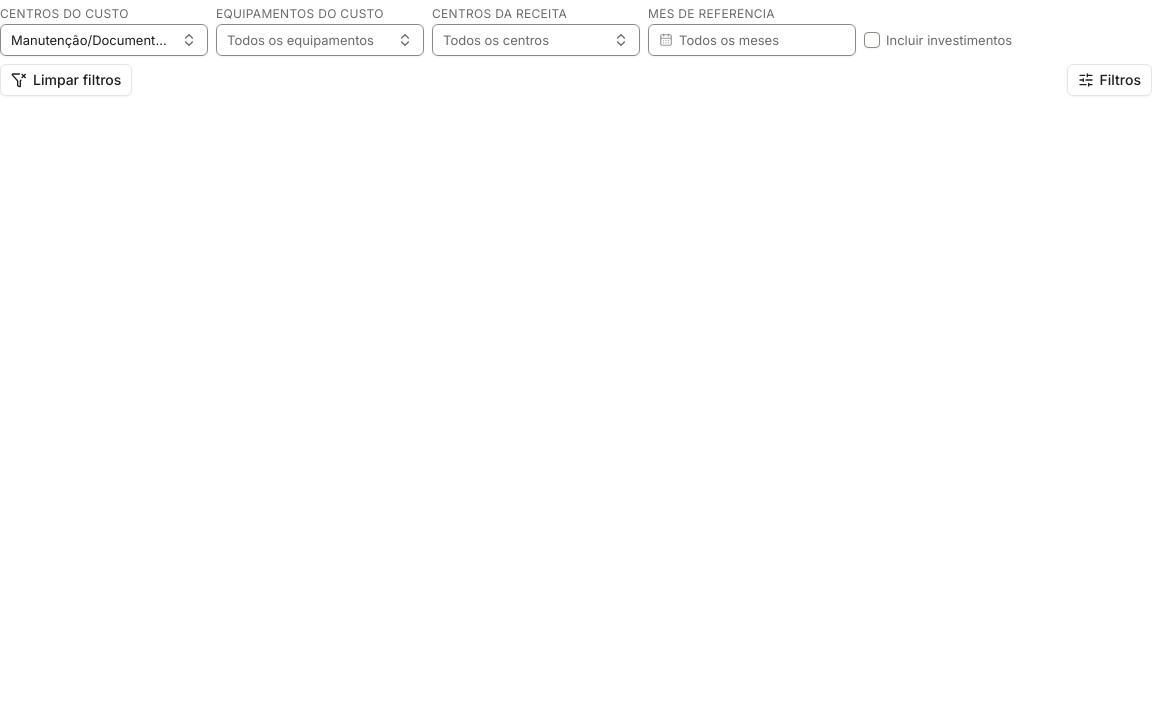
Test: FiltrosCustoReceitaBarra: a escada de centro e etapa › com a raiz da manutenção, aparece o campo de EQUIPAMENTOS
Click the dropdown labelled "Todos os equipamentos" at x=320, y=40, box [216,24,424,56]
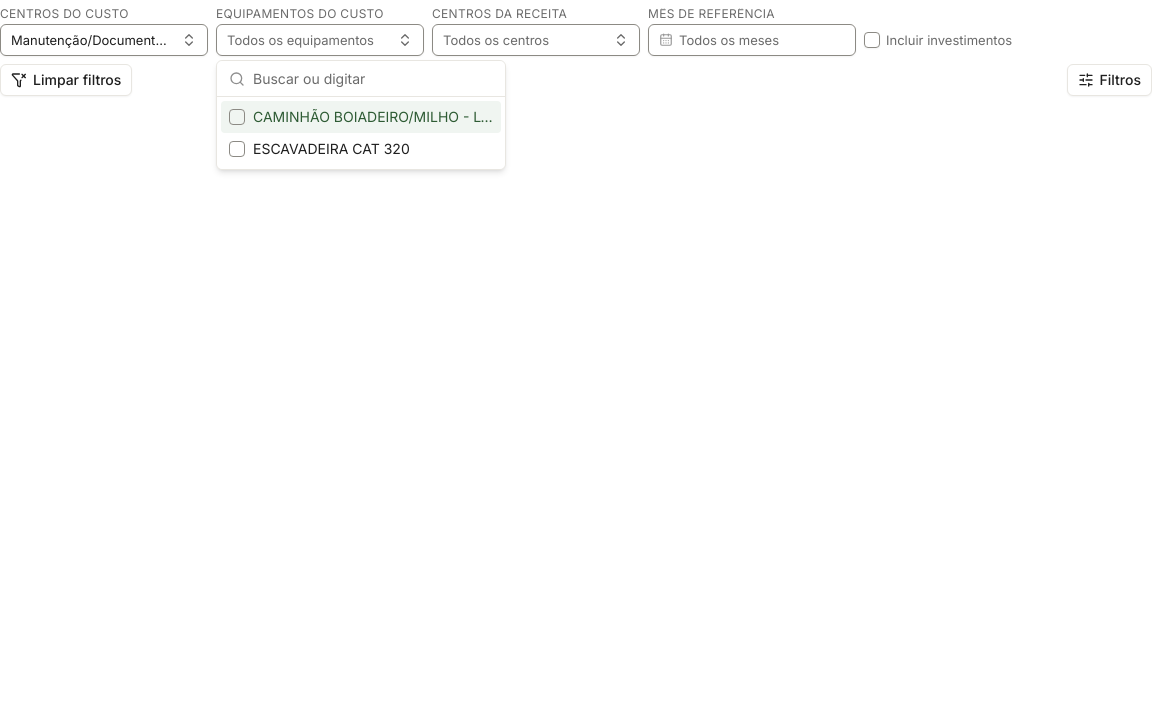
Now the options read "CAMINHÃO BOIADEIRO/MILHO - L1620", "ESCAVADEIRA CAT 320", in this order, box [221,101,501,133]; [229,140,410,157]
